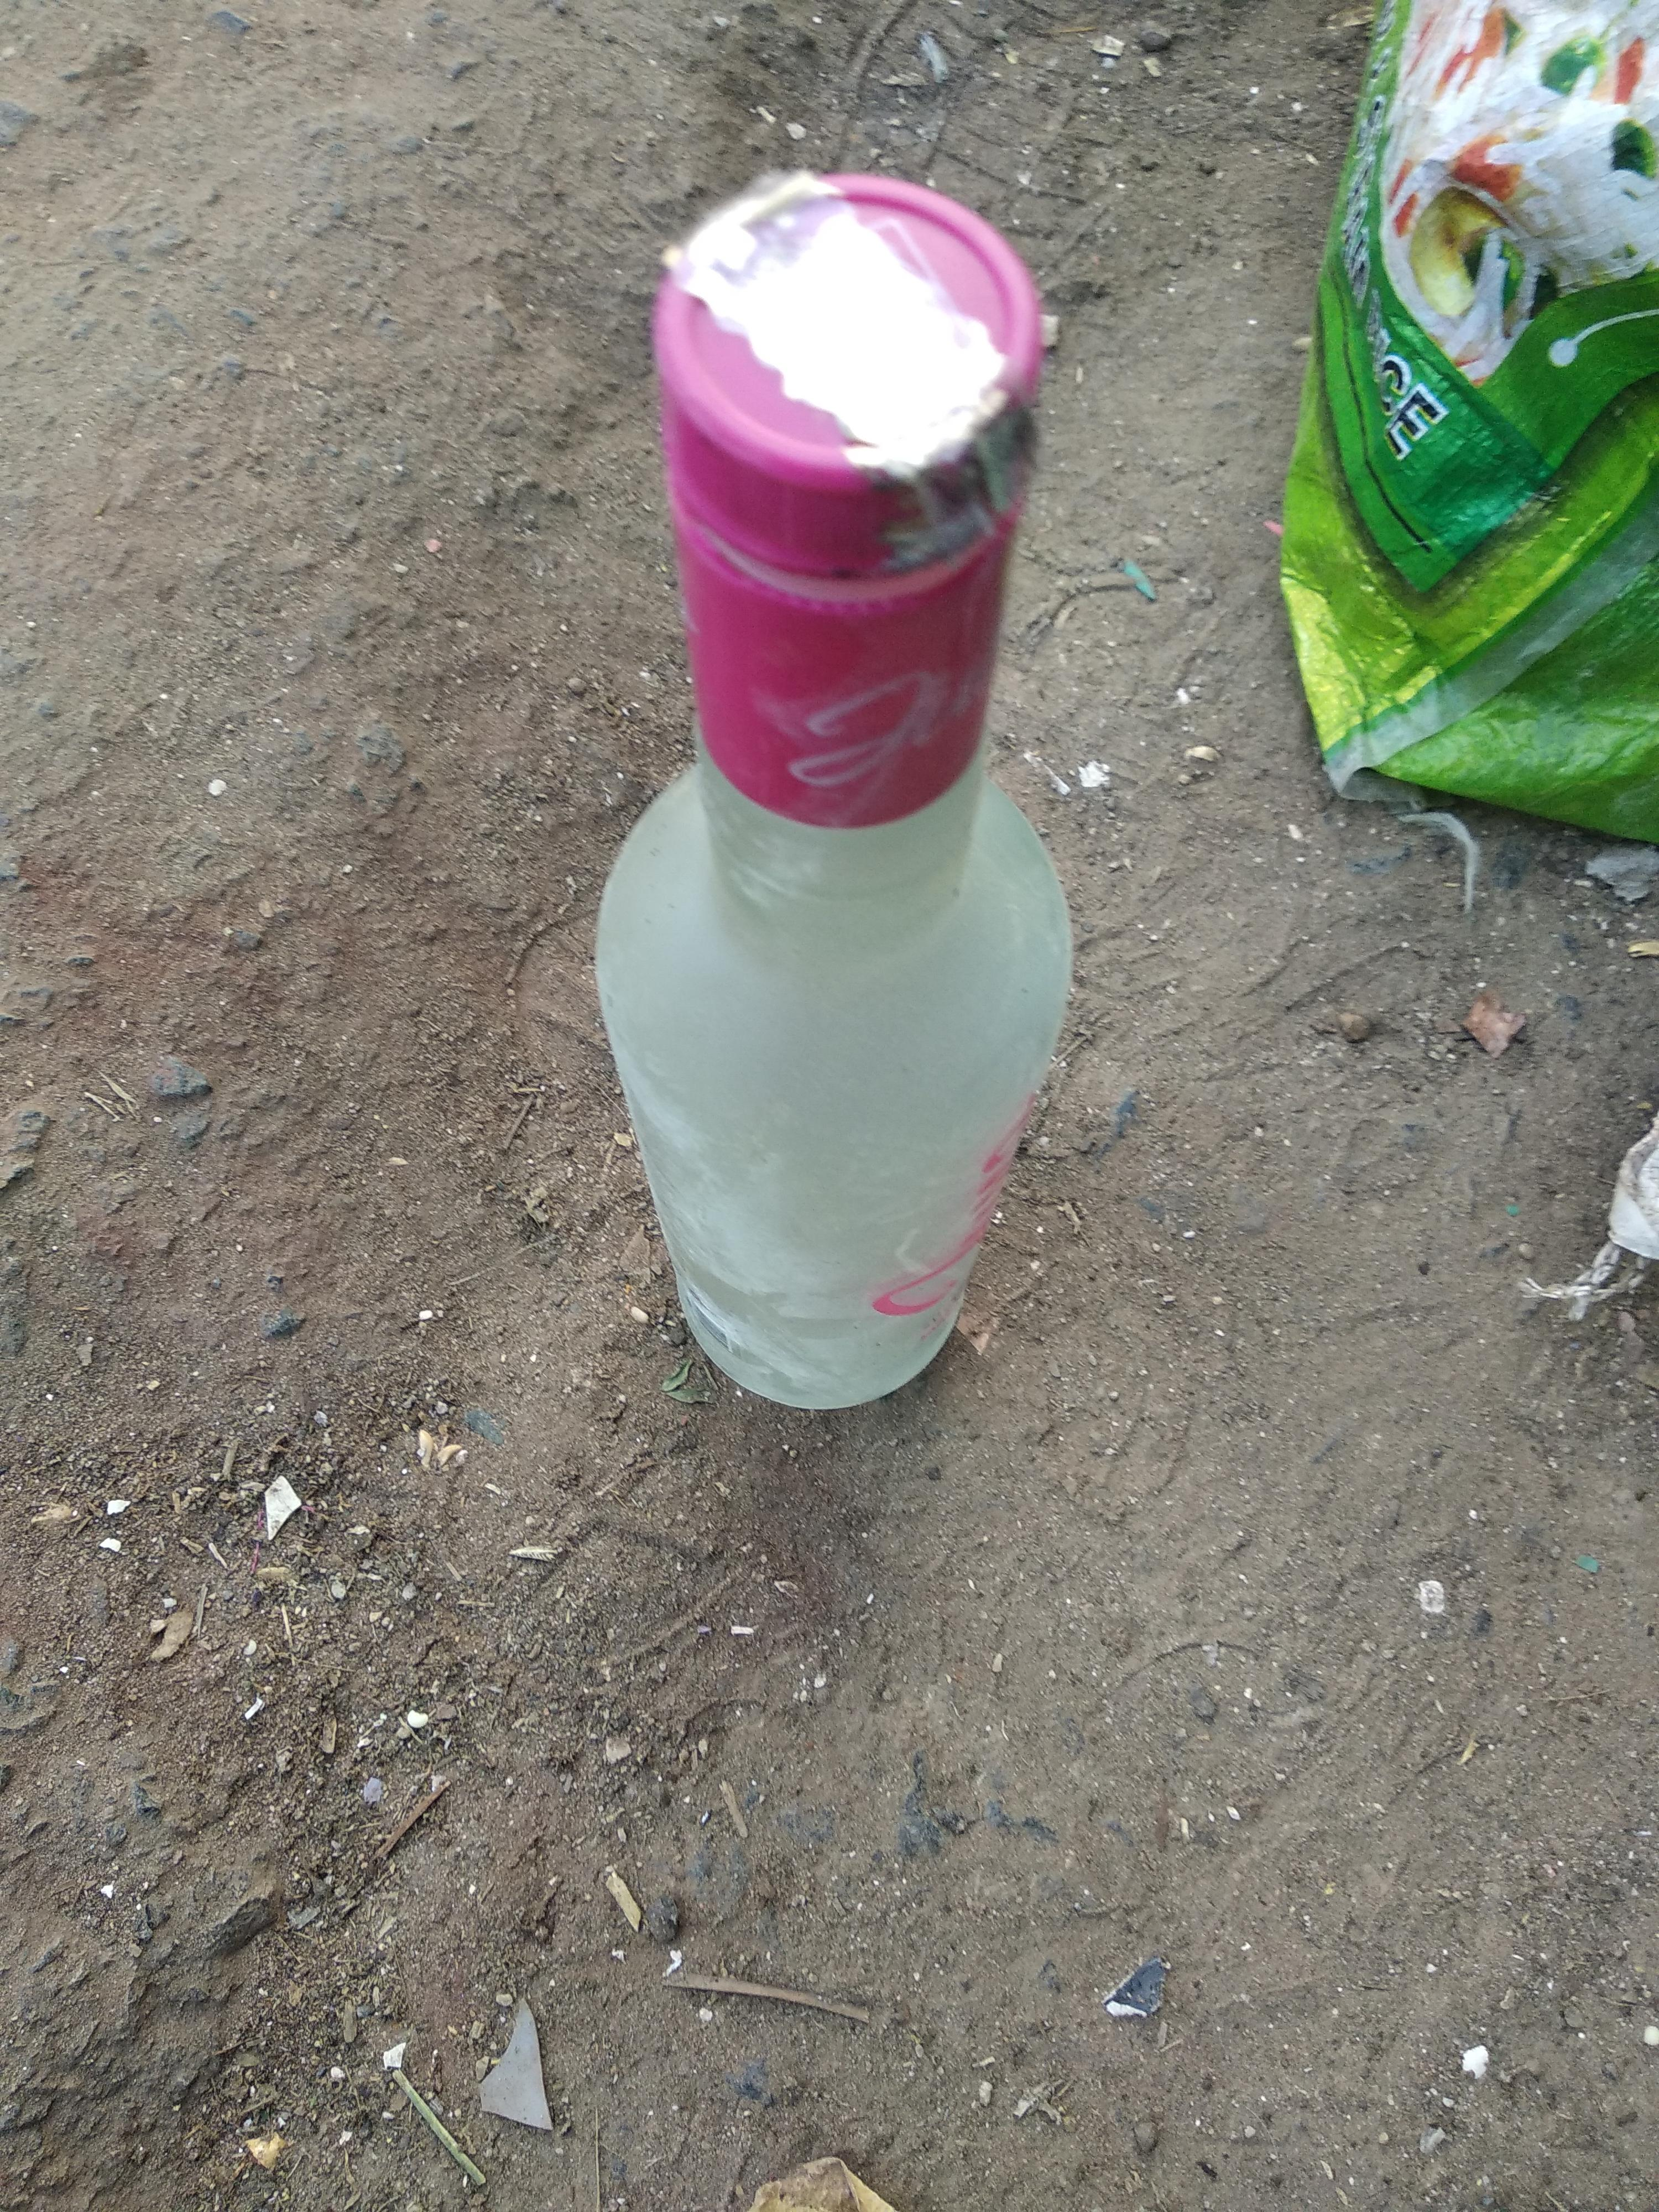organic: (572, 7, 1659, 1435)
